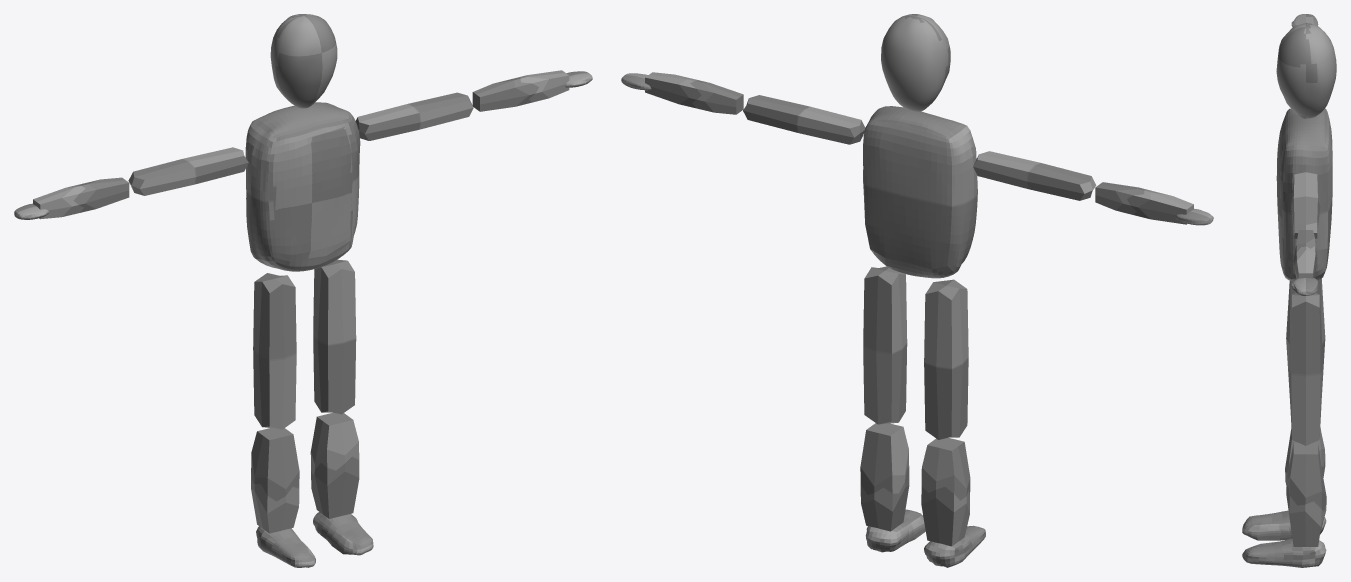
Rendered from ragdoll.glb.
The picture shows the model from 3 angles, left to right: view 1: azimuth 30°, elevation 25°; view 2: azimuth 150°, elevation 25°; view 3: azimuth 270°, elevation 25°; orthographic projection. The views are drawn at different scales.
Parts seen in each view (by area): view 1: Cube.007, Cube.003, Cube, Cube.001, Cube.002, Sphere.010, Cube.008, Cube.011, Cube.010, Cube.009; view 2: Cube.007, Cube.003, Cube, Cube.001, Cube.002, Sphere.010, Cube.008, Cube.011, Cube.010, Cube.009; view 3: Cube.007, Cube.001, Cube, Sphere.010, Cube.002, Cube.011, Cube.010, Cube.003, Cube.009.
Boxes of the visible parts, x1,y1,x2,y2 form: Cube.007: (245,102,360,271); Cube.003: (253,273,296,429); Cube: (313,259,356,414); Cube.001: (310,412,373,555); Cube.002: (251,428,315,567); Sphere.010: (270,14,337,108); Cube.008: (128,147,248,195); Cube.011: (355,92,473,140); Cube.010: (472,70,592,111); Cube.009: (14,177,129,219); Cube.007: (863,106,977,278); Cube.003: (924,279,968,439); Cube: (863,266,907,424); Cube.001: (860,423,925,552); Cube.002: (921,437,985,567); Sphere.010: (881,14,950,111); Cube.008: (973,151,1096,200); Cube.011: (743,95,865,144); Cube.010: (621,72,743,114); Cube.009: (1095,182,1213,225); Cube.007: (1276,108,1332,281); Cube.001: (1242,442,1326,567); Cube: (1288,293,1323,445); Sphere.010: (1276,23,1336,119); Cube.002: (1242,427,1326,540); Cube.011: (1291,172,1320,238); Cube.010: (1291,230,1318,295); Cube.003: (1286,278,1325,403); Cube.009: (1291,14,1318,26).
Size of the model in its own units: 24.22 by 21.15 by 3.48.
Materials: 6 (6 with a texture image).
